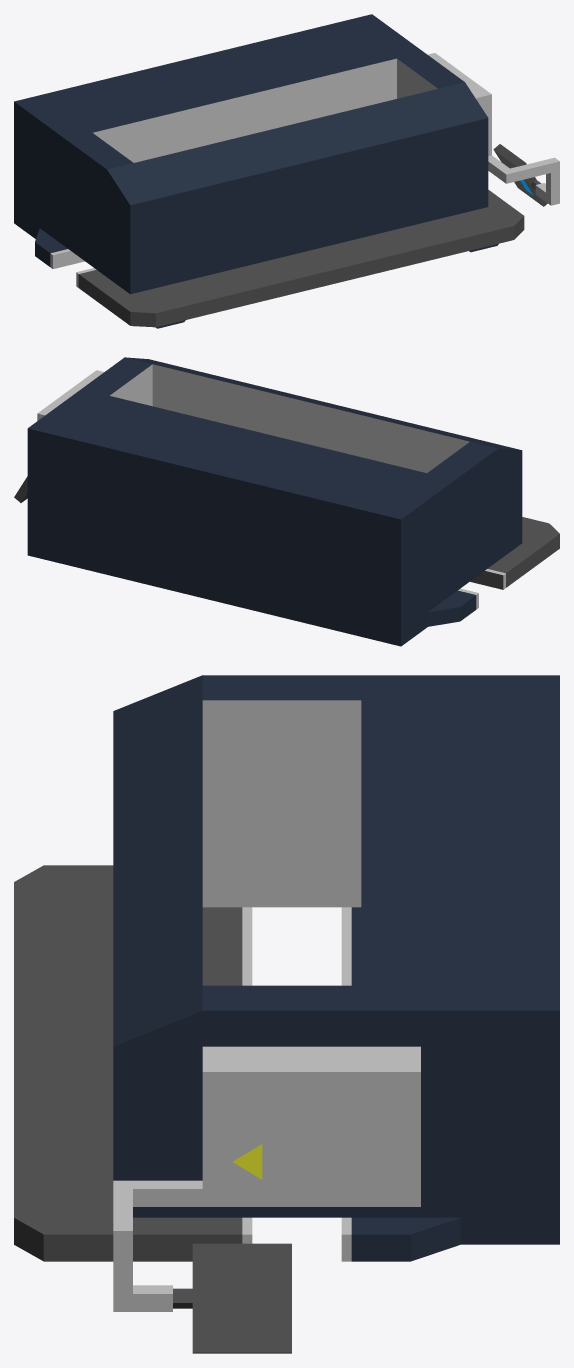
Rendered from cnc_bending_machine_1_state_1.dae.
The picture shows the model from 3 angles, top to bottom: view 1: azimuth 30°, elevation 25°; view 2: azimuth 150°, elevation 25°; view 3: azimuth 270°, elevation 25°; orthographic projection. The views are drawn at different scales.
Visible parts, largest first — view 1: coords_ME_ID39_MA_jean_blue, coords_ME_ID33_MA_material, coords_ME_ID19_MA_material_11, coords_ME_ID11_MA_material_11, coords_ME_ID25_MA_material; view 2: coords_ME_ID39_MA_jean_blue, coords_ME_ID19_MA_material_11, coords_ME_ID33_MA_material, coords_ME_ID11_MA_material_11, coords_ME_ID97_MA_material; view 3: coords_ME_ID39_MA_jean_blue, coords_ME_ID33_MA_material, coords_ME_ID11_MA_material_11, coords_ME_ID19_MA_material_11, coords_ME_ID25_MA_material, coords_ME_ID65_MA_material, coords_ME_ID77_MA_jean_blue.
Boxes of the visible parts, x1,y1,x2,y2 form: coords_ME_ID39_MA_jean_blue: [14, 14, 488, 294]; coords_ME_ID33_MA_material: [78, 190, 524, 327]; coords_ME_ID19_MA_material_11: [50, 58, 437, 268]; coords_ME_ID11_MA_material_11: [428, 53, 559, 205]; coords_ME_ID25_MA_material: [493, 144, 547, 206]; coords_ME_ID39_MA_jean_blue: [27, 357, 522, 646]; coords_ME_ID19_MA_material_11: [110, 364, 478, 609]; coords_ME_ID33_MA_material: [487, 517, 559, 587]; coords_ME_ID11_MA_material_11: [37, 370, 103, 420]; coords_ME_ID97_MA_material: [470, 571, 503, 589]; coords_ME_ID39_MA_jean_blue: [113, 675, 559, 1261]; coords_ME_ID33_MA_material: [14, 865, 242, 1261]; coords_ME_ID11_MA_material_11: [113, 1046, 420, 1311]; coords_ME_ID19_MA_material_11: [202, 700, 361, 1261]; coords_ME_ID25_MA_material: [173, 1243, 291, 1353]; coords_ME_ID65_MA_material: [202, 907, 242, 985]; coords_ME_ID77_MA_jean_blue: [351, 907, 361, 985].
Bounding box in the file's own units: 60.53 × 20.08 × 32.48.
